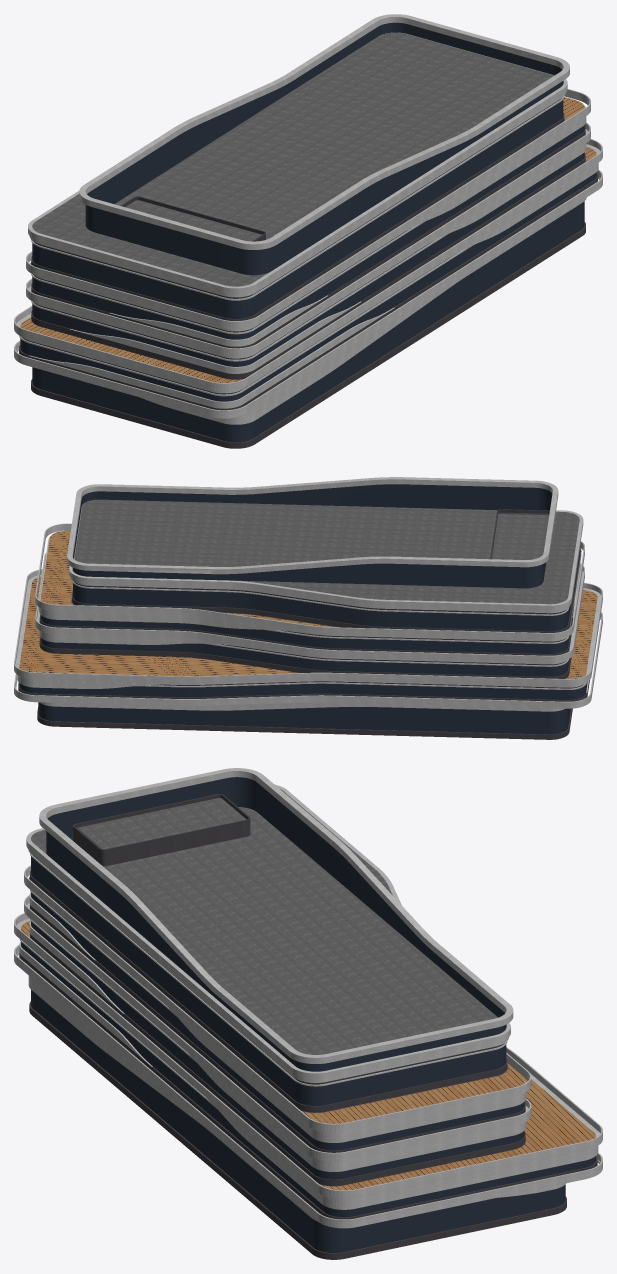
3 renders of one model, top to bottom at view 1: azimuth 30°, elevation 25°; view 2: azimuth 150°, elevation 25°; view 3: azimuth 270°, elevation 25°, orthographic. The views are drawn at different scales.
Parts seen in each view (by area): view 1: 0简05楼, Shape233, 玻璃-蓝波002, Color_003, Shape231; view 2: 0简05楼, Shape233, 玻璃-蓝波002, Color_003, Shape231, Color_C007; view 3: 0简05楼, Shape233, 玻璃-蓝波002, Color_003, Shape231.
Boxes of the visible parts, x1=… form: 0简05楼: x1=20, y1=22, x2=596, y2=408; Shape233: x1=14, y1=14, x2=602, y2=424; 玻璃-蓝波002: x1=20, y1=100, x2=596, y2=442; Color_003: x1=19, y1=98, x2=597, y2=448; Shape231: x1=29, y1=93, x2=565, y2=297; 0简05楼: x1=19, y1=484, x2=597, y2=692; Shape233: x1=14, y1=477, x2=602, y2=711; 玻璃-蓝波002: x1=19, y1=583, x2=587, y2=734; Color_003: x1=18, y1=546, x2=589, y2=739; Shape231: x1=70, y1=577, x2=570, y2=613; Color_C007: x1=302, y1=702, x2=564, y2=711; 0简05楼: x1=19, y1=777, x2=595, y2=1190; Shape233: x1=14, y1=768, x2=602, y2=1228; 玻璃-蓝波002: x1=21, y1=857, x2=595, y2=1252; Color_003: x1=19, y1=856, x2=597, y2=1259; Shape231: x1=28, y1=849, x2=508, y2=1082.
Size of the model in its own units: 100932 by 30163 by 77349.
5 materials, 4 textured.
